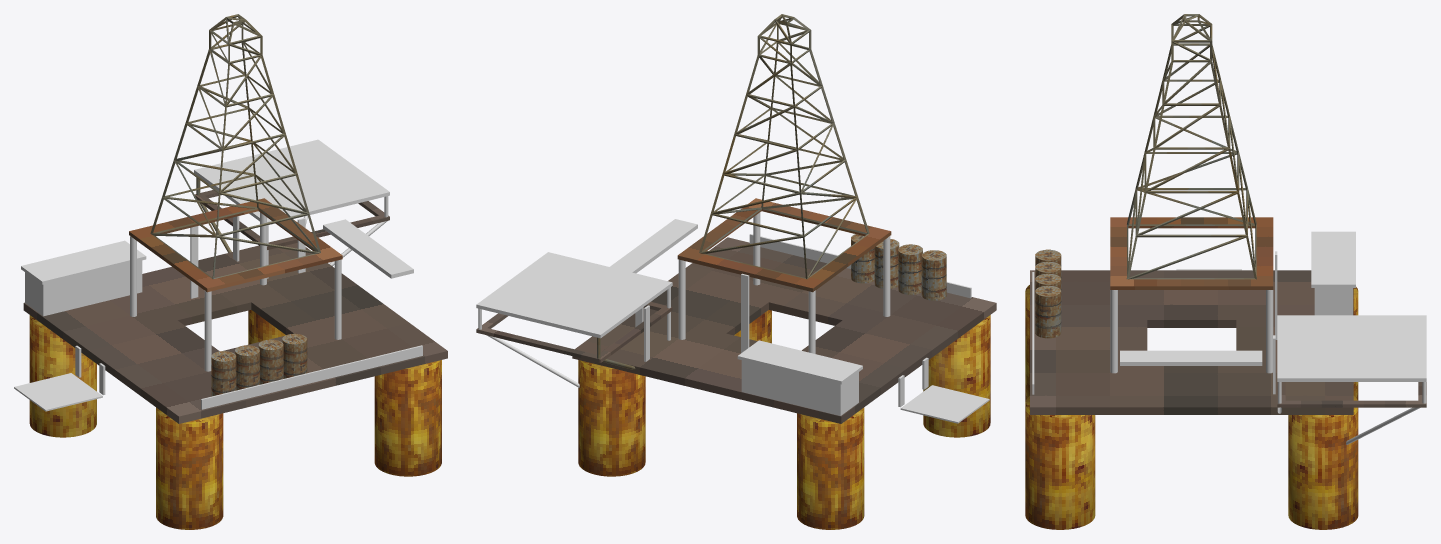
Rendered from rig_layout.fbx.
3 renders of one model, left to right at view 1: azimuth 30°, elevation 25°; view 2: azimuth 150°, elevation 25°; view 3: azimuth 270°, elevation 25°, orthographic. The views are drawn at different scales.
Parts seen in each view (by area): view 1: floor_1, Cylinder, Cube.004, Helipad, Cube.006, floor.003, Cube, Cylinder.001, floor.002, floor.005, floor.004, Cylinder.002 (+3 smaller); view 2: floor_1, Cylinder, Helipad, Cube.004, Cube.006, floor.003, Cylinder.001, floor.002, floor.004, floor.005, Cylinder.002, Cylinder.003 (+4 smaller); view 3: floor_1, Cylinder, Helipad, Cube.004, floor.003, Cube.006, floor.005, floor.004, Cylinder.005, Cylinder.001.
Part boxes in pixels (<box>): floor_1: <box>23,243,447,423</box>; Cylinder: <box>29,310,441,529</box>; Cube.004: <box>150,14,320,279</box>; Helipad: <box>194,139,389,225</box>; Cube.006: <box>21,240,146,316</box>; floor.003: <box>129,198,342,292</box>; Cube: <box>201,345,422,409</box>; Cylinder.001: <box>130,212,341,371</box>; floor.002: <box>14,373,102,411</box>; floor.005: <box>323,219,413,278</box>; floor.004: <box>194,190,389,249</box>; Cylinder.002: <box>211,351,236,396</box>; floor_1: <box>572,237,996,423</box>; Cylinder: <box>578,310,990,529</box>; Helipad: <box>476,252,672,338</box>; Cube.004: <box>699,14,869,279</box>; Cube.006: <box>737,340,862,415</box>; floor.003: <box>677,198,891,292</box>; Cylinder.001: <box>678,212,890,353</box>; floor.002: <box>900,385,989,423</box>; floor.004: <box>476,302,672,362</box>; floor.005: <box>610,219,697,273</box>; Cylinder.002: <box>921,250,946,300</box>; Cylinder.003: <box>898,244,922,294</box>; floor_1: <box>1030,270,1353,414</box>; Cylinder: <box>1025,285,1358,529</box>; Helipad: <box>1277,315,1426,381</box>; Cube.004: <box>1126,14,1256,279</box>; floor.003: <box>1110,217,1273,289</box>; Cube.006: <box>1311,231,1355,315</box>; floor.005: <box>1120,350,1262,365</box>; floor.004: <box>1277,382,1426,407</box>; Cylinder.005: <box>1035,285,1061,338</box>; Cylinder.001: <box>1110,290,1273,373</box>.
Bounding box in the file's own units: 8265 × 8537 × 7022.
Materials: 6 (5 with a texture image).
